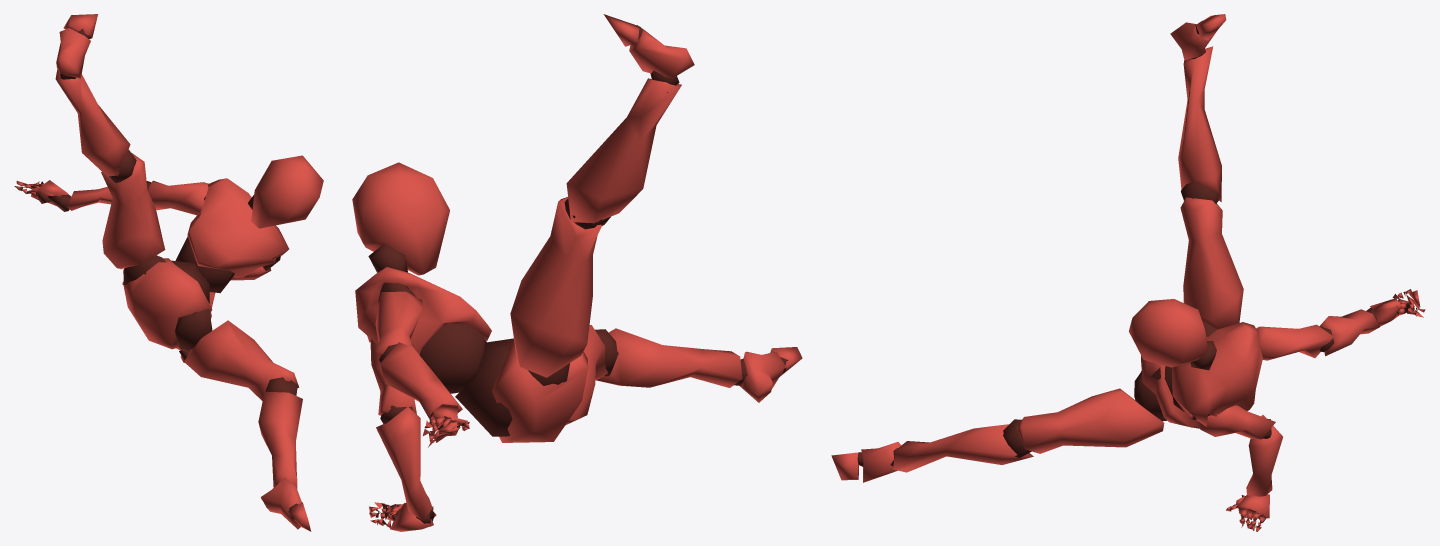
3 views of the same model, side by side, from view 1: azimuth 30°, elevation 25°; view 2: azimuth 150°, elevation 25°; view 3: azimuth 270°, elevation 25° (orthographic). The views are drawn at different scales.
Parts seen in each view (by area): view 1: Beta_Surface; view 2: Beta_Surface; view 3: Beta_Surface.
Part boxes in pixels (left/top/right/bottom): Beta_Surface: left=14, top=14, right=323, bottom=531; Beta_Surface: left=352, top=14, right=802, bottom=531; Beta_Surface: left=831, top=14, right=1425, bottom=531.
Bounding box in the file's own units: 9.93 × 15.25 × 18.73.
